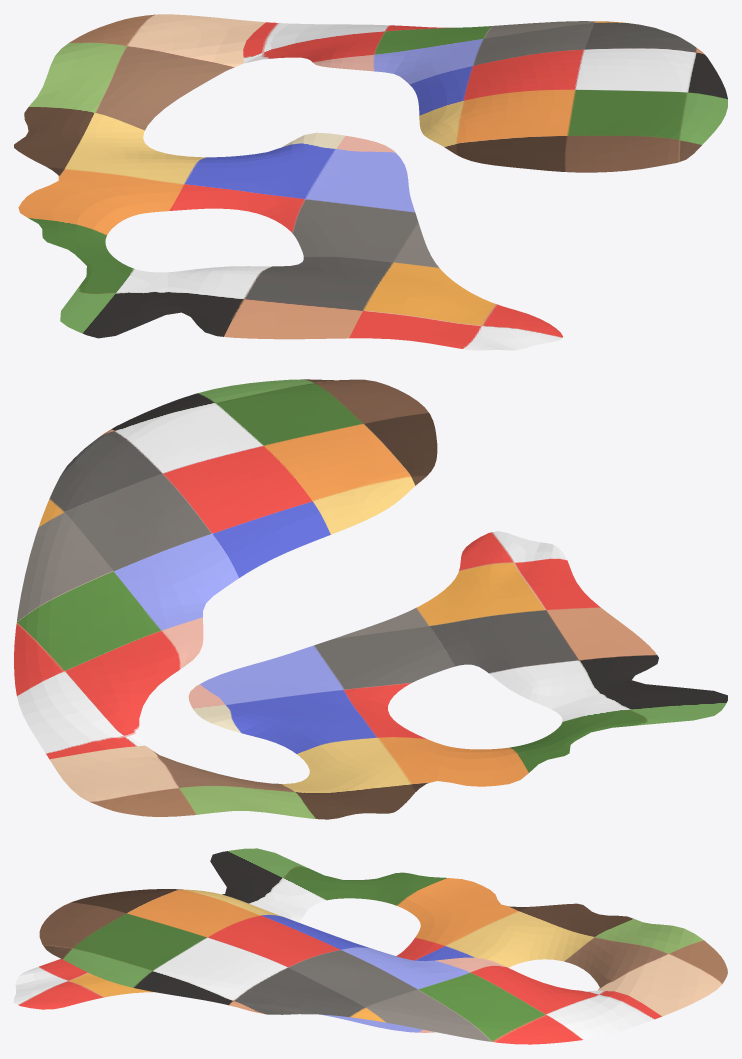
File: lvl1grass_hill.fbx
3 renders of one model, top to bottom at view 1: azimuth 30°, elevation 25°; view 2: azimuth 150°, elevation 25°; view 3: azimuth 270°, elevation 25°, orthographic. The views are drawn at different scales.
Parts seen in each view (by area): view 1: grass_hill; view 2: grass_hill; view 3: grass_hill.
Part boxes in pixels (<box>): grass_hill: <box>14,14,727,350</box>; grass_hill: <box>14,379,727,819</box>; grass_hill: <box>14,848,727,1044</box>.
Bounding box in the file's own units: 2617 × 573 × 2949.
